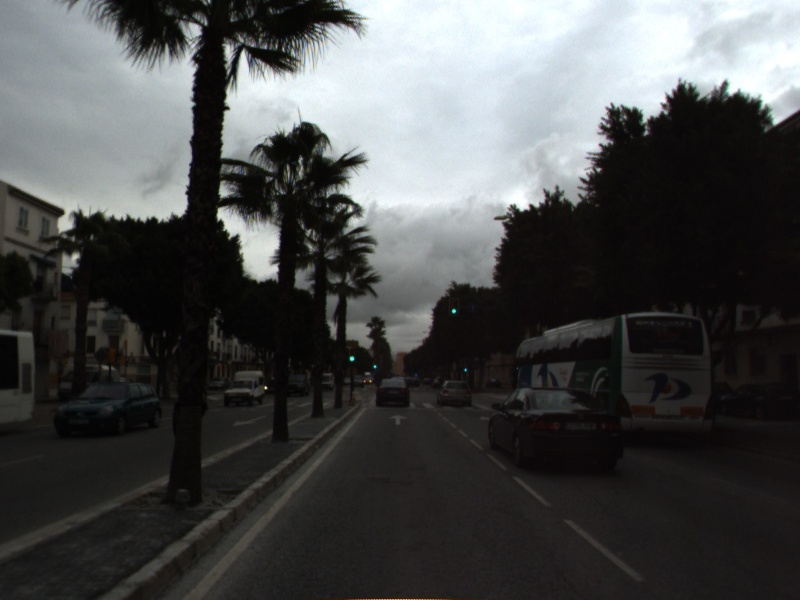STRAIGHT: (387, 412, 409, 426)
